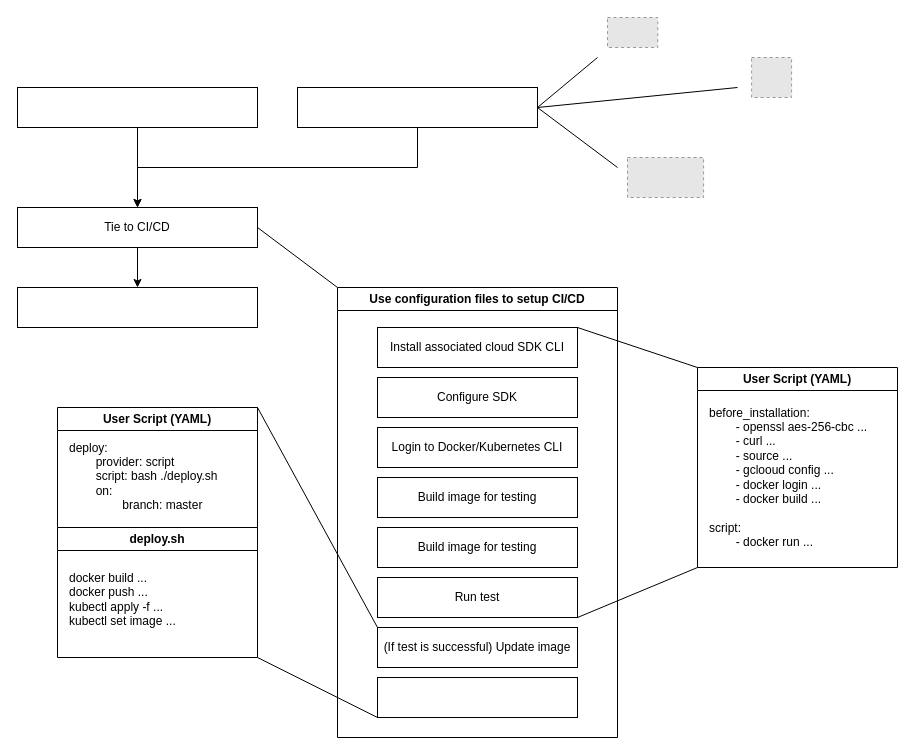
Some shapes in this 915 by 755 pixel diagram are drawn without their labels. Grey dashed boxes stand in for pictures. The centre of each missing label's shape, as x and y in pixels:
"Apply changes to k8s" belongs at (477,697).
"Attach deployment script" belongs at (137,307).
"Create GitHub repository" belongs at (137,107).
"Setup cloud platform (and enable billing)" belongs at (417,107).
